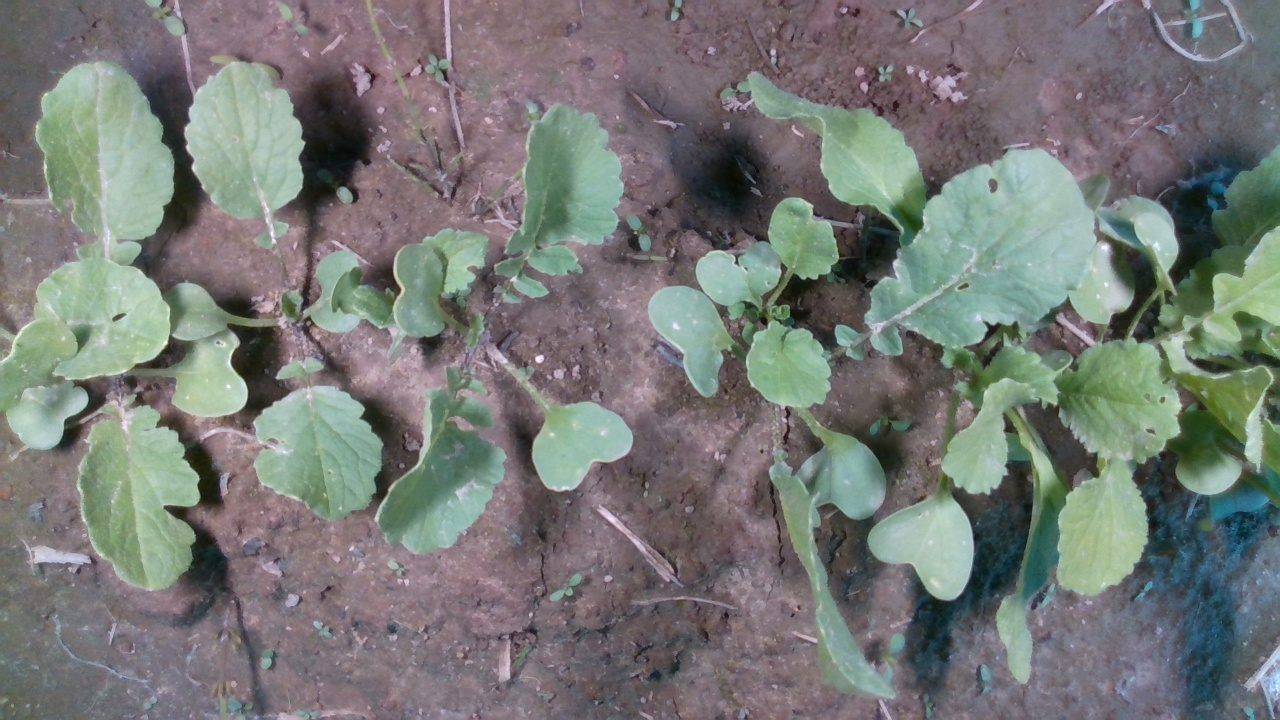weed: (314, 167, 354, 206), (274, 0, 311, 37), (625, 211, 651, 252), (550, 570, 582, 603), (420, 53, 452, 83), (896, 5, 924, 31), (313, 619, 333, 639), (258, 647, 274, 671), (386, 559, 406, 578), (877, 63, 893, 84), (630, 254, 671, 262)
